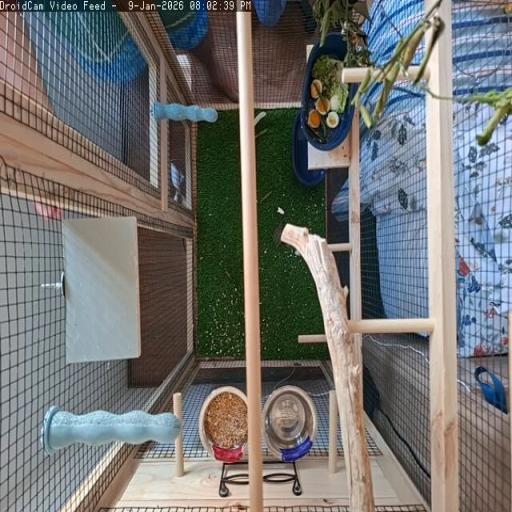bebedero: (263, 385, 316, 461)
comedero: (198, 386, 247, 462)
